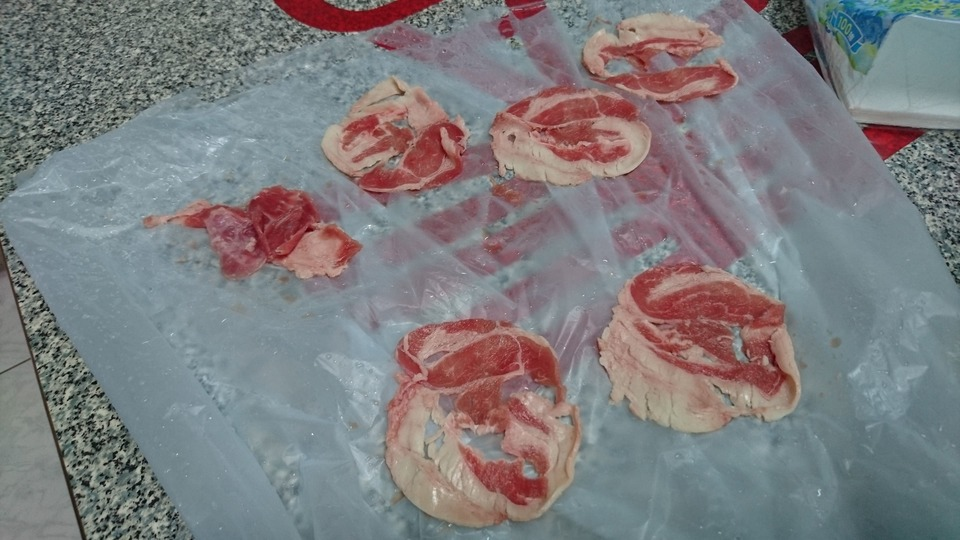restructured meat: (376, 298, 583, 533), (598, 259, 805, 444), (138, 189, 359, 283), (485, 69, 647, 192), (582, 1, 747, 111), (337, 76, 483, 199)
